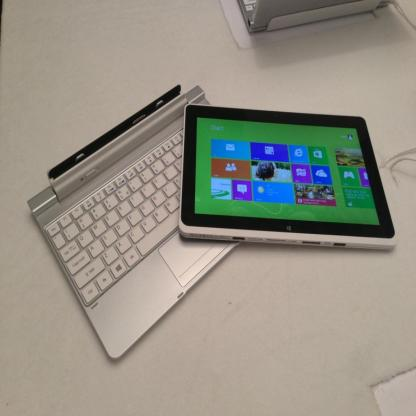board: (27, 84, 396, 360)
